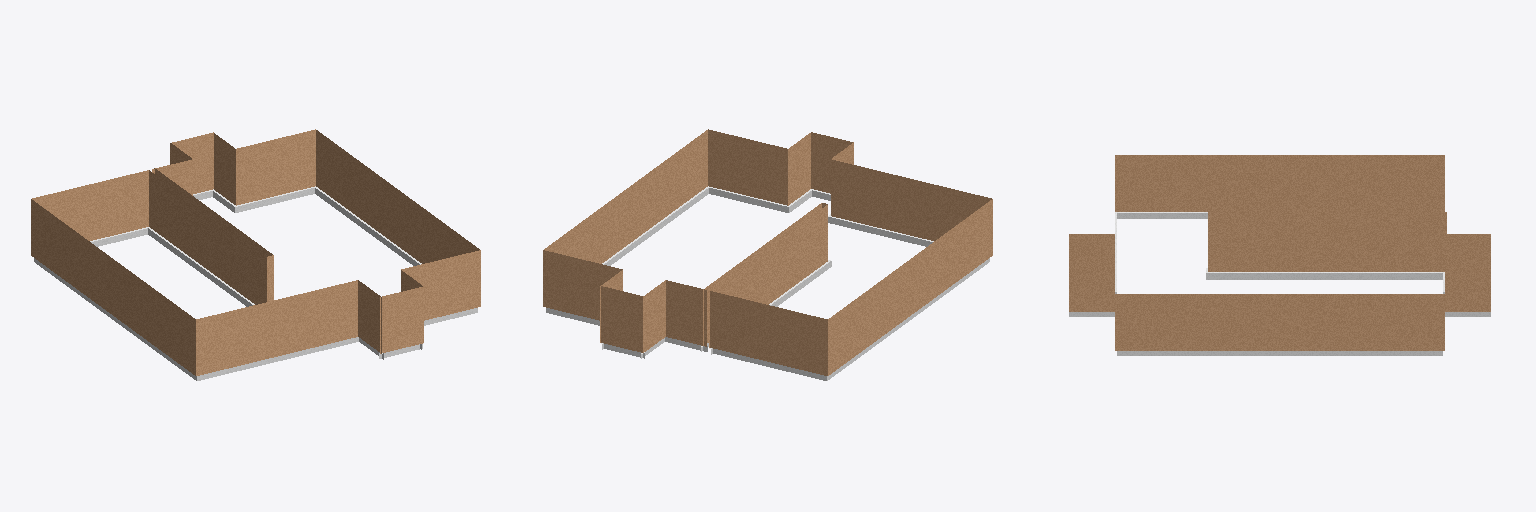
3 renders of one model, left to right at view 1: azimuth 30°, elevation 25°; view 2: azimuth 150°, elevation 25°; view 3: azimuth 270°, elevation 25°, orthographic.
Parts seen in each view (by area): view 1: Wall_Tiles mCorner4, Wall_Tiles mCorner2, Wall_Tiles mWall25, Wall_Tiles mWall28, Wall_Tiles mWall30, Wall_Tiles mWall29, Wall_Tiles mCorner3, Wall_Tiles mWall3, Wall_Tiles mWall31, Wall_Tiles mWall4, Wall_Tiles mCorner1, Wall_Tiles mWall27 (+19 smaller); view 2: Wall_Tiles mCorner3, Wall_Tiles mCorner1, Wall_Tiles mWall26, Wall_Tiles mWall30, Wall_Tiles mWall27, Wall_Tiles mCorner4, Wall_Tiles mWall31, Wall_Tiles mWall4, mWall2 Wall_Tiles, Wall_Tiles mWall3, Wall_Tiles mWall29, Wall_Tiles mCorner2 (+18 smaller); view 3: Wall_Tiles mWall10, Wall_Tiles mWall14, Wall_Tiles mWall12, Wall_Tiles mWall11, Wall_Tiles mWall9, Wall_Tiles mWall21, Wall_Tiles mWall13, Wall_Tiles mWall23, Wall_Tiles mWall24, Wall_Tiles mWall20, Wall_Tiles mWall34, Wall_Tiles mWall35 (+13 smaller).
Part boxes in pixels (x1,y1,x2,y2): Wall_Tiles mCorner4: (278,129,337,208); Wall_Tiles mCorner2: (174,304,233,380); Wall_Tiles mWall25: (236,139,278,212); Wall_Tiles mWall28: (379,286,423,358); Wall_Tiles mWall30: (275,290,317,361); Wall_Tiles mWall29: (233,300,275,371); Wall_Tiles mCorner3: (442,234,480,320); Wall_Tiles mWall3: (109,170,148,243); Wall_Tiles mWall31: (317,280,357,351); Wall_Tiles mWall4: (69,180,109,246); Wall_Tiles mCorner1: (31,190,68,276); Wall_Tiles mWall27: (172,132,213,199); Wall_Tiles mCorner3: (686,129,745,208); Wall_Tiles mCorner1: (790,304,849,380); Wall_Tiles mWall26: (745,139,787,212); Wall_Tiles mWall30: (869,169,912,242); Wall_Tiles mWall27: (601,286,644,358); Wall_Tiles mCorner4: (543,234,582,321); Wall_Tiles mWall31: (829,159,870,232); Wall_Tiles mWall4: (749,301,790,371); mWall2 Wall_Tiles: (666,280,707,351); Wall_Tiles mWall3: (710,291,750,362); Wall_Tiles mWall29: (911,179,954,246); Wall_Tiles mCorner2: (955,190,992,276); Wall_Tiles mWall10: (1208,216,1254,279); Wall_Tiles mWall14: (1393,216,1439,279); Wall_Tiles mWall12: (1301,216,1347,279); Wall_Tiles mWall11: (1255,216,1300,279); Wall_Tiles mWall9: (1170,155,1216,218); Wall_Tiles mWall21: (1308,294,1354,355); Wall_Tiles mWall13: (1347,216,1392,279); Wall_Tiles mWall23: (1216,294,1262,355); Wall_Tiles mWall24: (1170,294,1216,355); Wall_Tiles mWall20: (1355,294,1400,355); Wall_Tiles mWall34: (1069,255,1114,316); Wall_Tiles mWall35: (1445,255,1490,316).
Bounding box in the file's own units: 14.14 × 3 × 18.18.
1 materials, 1 textured.